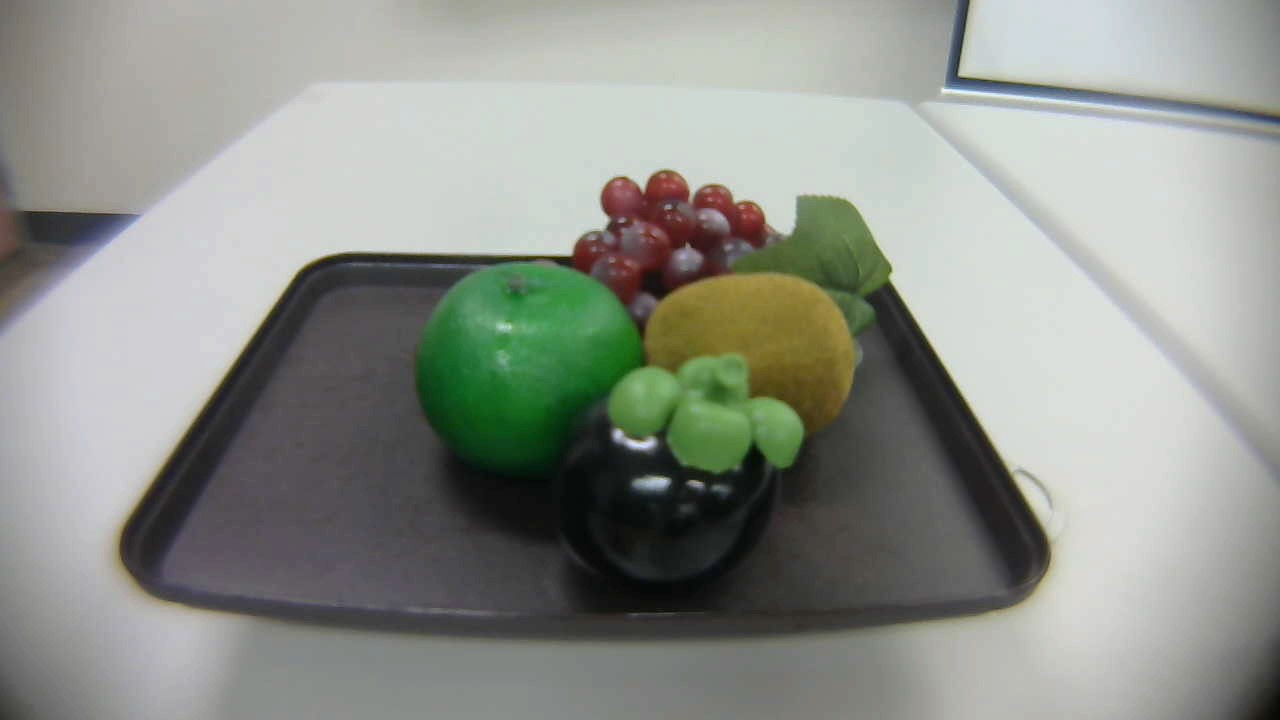grape: (547, 154, 892, 366)
green orange: (420, 261, 648, 494)
kiwi fruit: (647, 269, 862, 444)
mangosteen: (553, 345, 806, 593)
